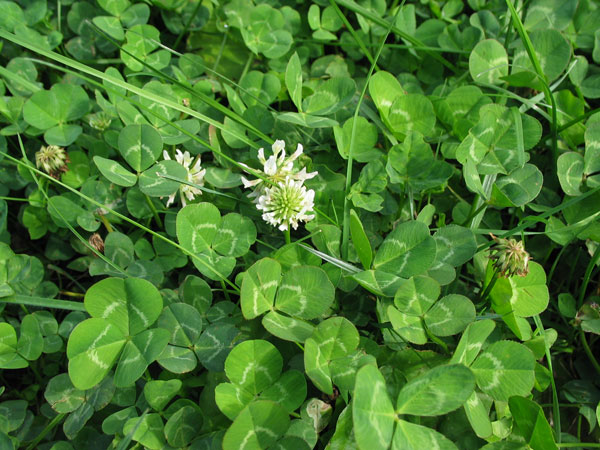clover: (5, 4, 594, 446)
